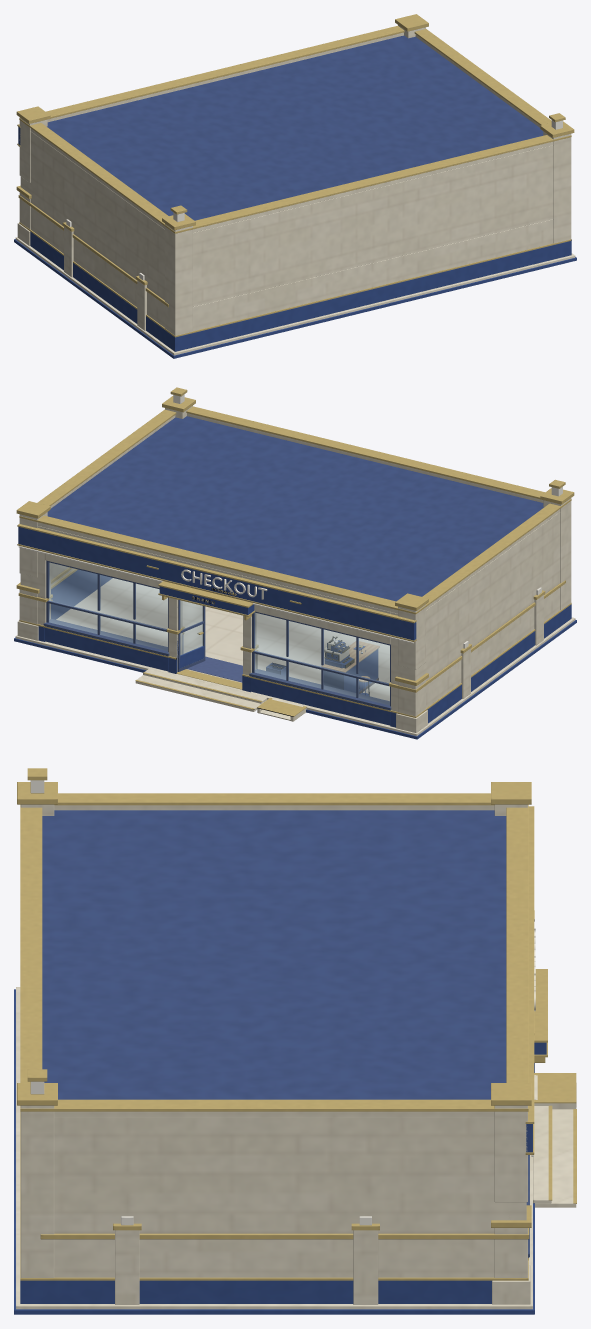
The model's file is Era6_Minimercado.fbx.
3 renders of one model, top to bottom at view 1: azimuth 30°, elevation 25°; view 2: azimuth 150°, elevation 25°; view 3: azimuth 270°, elevation 25°, orthographic. The views are drawn at different scales.
Parts seen in each view (by area): view 1: CUT_ERA6_ShellTop, ERA6_BackWall, ERA6_Shell; view 2: CUT_ERA6_ShellTop, ERA6_Shell, ERA6_BackWall, CUT_ERA6_Glass_winRTop, CUT_ERA6_Glass_winLTop, ERA6_Steps, ERA6_Glass_winR, ERA6_Glass_winL, ERA6_Counter, CUT_ERA6_Sign, ERA6_Counter_Register, ERA6_DoorL (+2 smaller); view 3: CUT_ERA6_ShellTop, ERA6_Shell, ERA6_BackWall, ERA6_Steps.
Boxes of the visible parts, x1,y1,x2,y2 form: CUT_ERA6_ShellTop: (16,14,551,300); ERA6_BackWall: (162,113,574,335); ERA6_Shell: (14,185,576,358); CUT_ERA6_ShellTop: (16,409,565,684); ERA6_Shell: (14,567,576,739); ERA6_BackWall: (162,387,574,609); CUT_ERA6_Glass_winRTop: (254,612,390,683); CUT_ERA6_Glass_winLTop: (49,562,167,629); ERA6_Steps: (135,669,306,721); ERA6_Glass_winR: (254,653,389,705); ERA6_Glass_winL: (49,603,167,650); ERA6_Counter: (321,641,379,693); CUT_ERA6_Sign: (146,565,301,604); ERA6_Counter_Register: (324,636,354,668); ERA6_DoorL: (178,622,205,671); CUT_ERA6_ShellTop: (39,782,547,1233); ERA6_Shell: (14,987,534,1314); ERA6_BackWall: (17,768,57,1277); ERA6_Steps: (533,1073,576,1207).
Bounding box in the file's own units: 12.26 × 4.12 × 9.09.
Materials: 2 (1 with a texture image).
